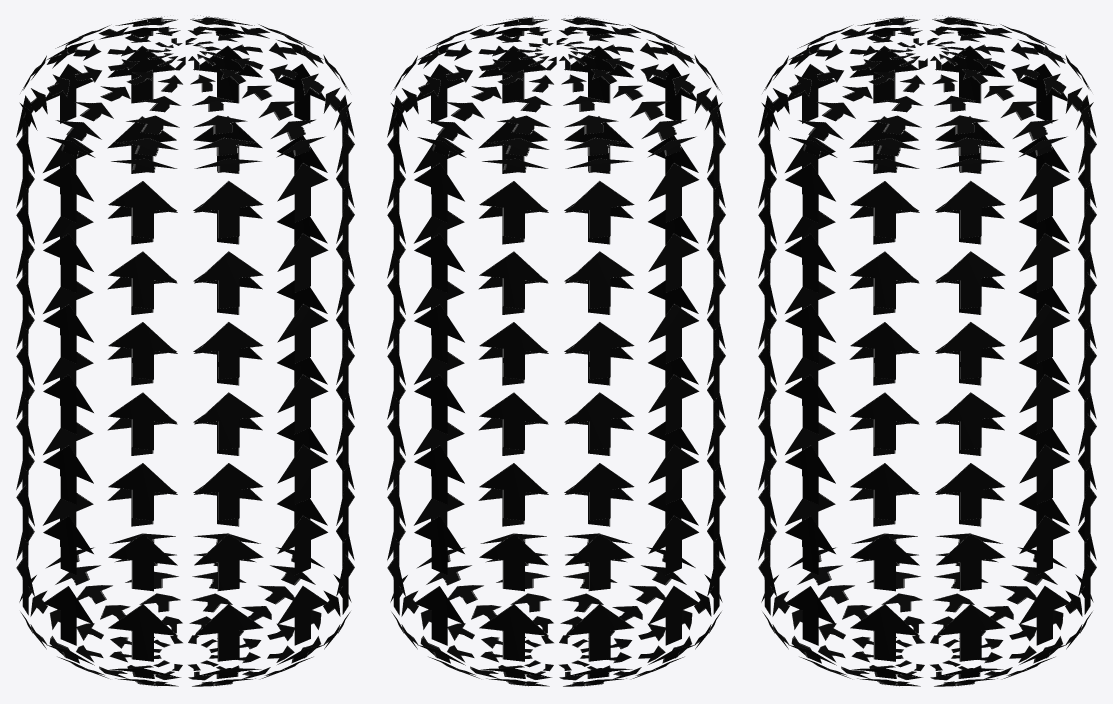
Rendered from accumulator Flow.fbx.
3 renders of one model, left to right at view 1: azimuth 30°, elevation 25°; view 2: azimuth 150°, elevation 25°; view 3: azimuth 270°, elevation 25°, orthographic.
Visible parts, largest first — view 1: compressor Arrow Inside; view 2: compressor Arrow Inside; view 3: compressor Arrow Inside.
Part boxes in pixels (x1=…): compressor Arrow Inside: x1=16, y1=15, x2=354, y2=686; compressor Arrow Inside: x1=387, y1=15, x2=725, y2=686; compressor Arrow Inside: x1=758, y1=15, x2=1096, y2=686.
Size of the model in its own units: 0.1254 by 0.2446 by 0.1254.
